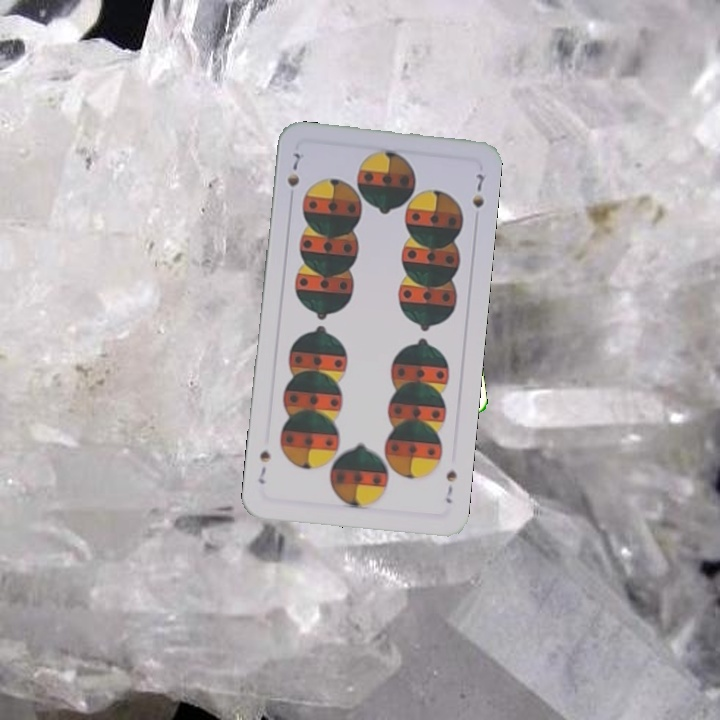S7: (283, 149, 303, 190), (441, 466, 459, 506)
